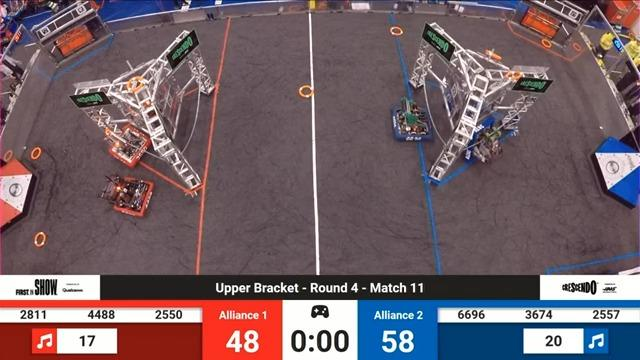robot: (95, 172, 165, 224), (387, 93, 437, 147), (463, 112, 499, 175), (104, 119, 148, 169)
